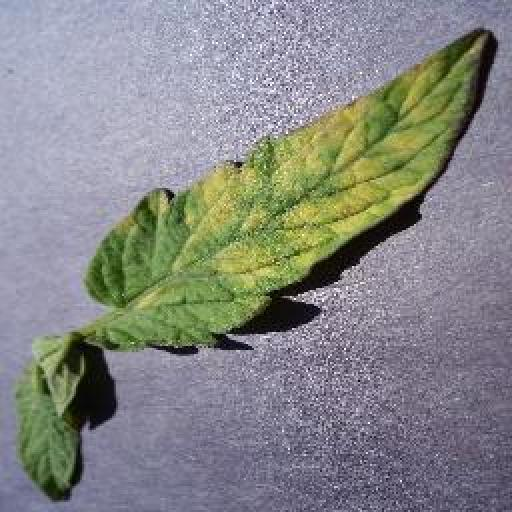Leaf Mold: (90, 25, 485, 359)
